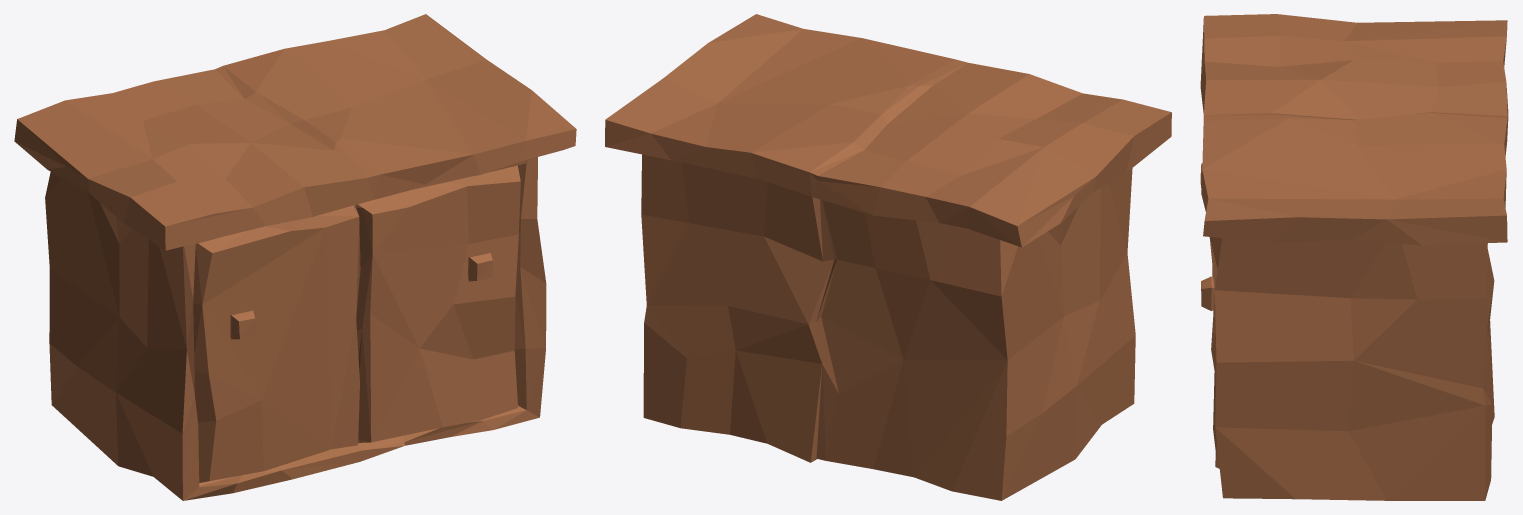
File: Cupboard01.fbx
3 renders of one model, left to right at view 1: azimuth 30°, elevation 25°; view 2: azimuth 150°, elevation 25°; view 3: azimuth 270°, elevation 25°, orthographic.
Visible parts, largest first — view 1: Cupboard01; view 2: Cupboard01; view 3: Cupboard01.
Part boxes in pixels (x1,y1,x2,y2): Cupboard01: (14, 14, 576, 500); Cupboard01: (605, 14, 1171, 500); Cupboard01: (1200, 14, 1508, 500).
Size of the model in its own units: 138 by 95.94 by 87.41.
